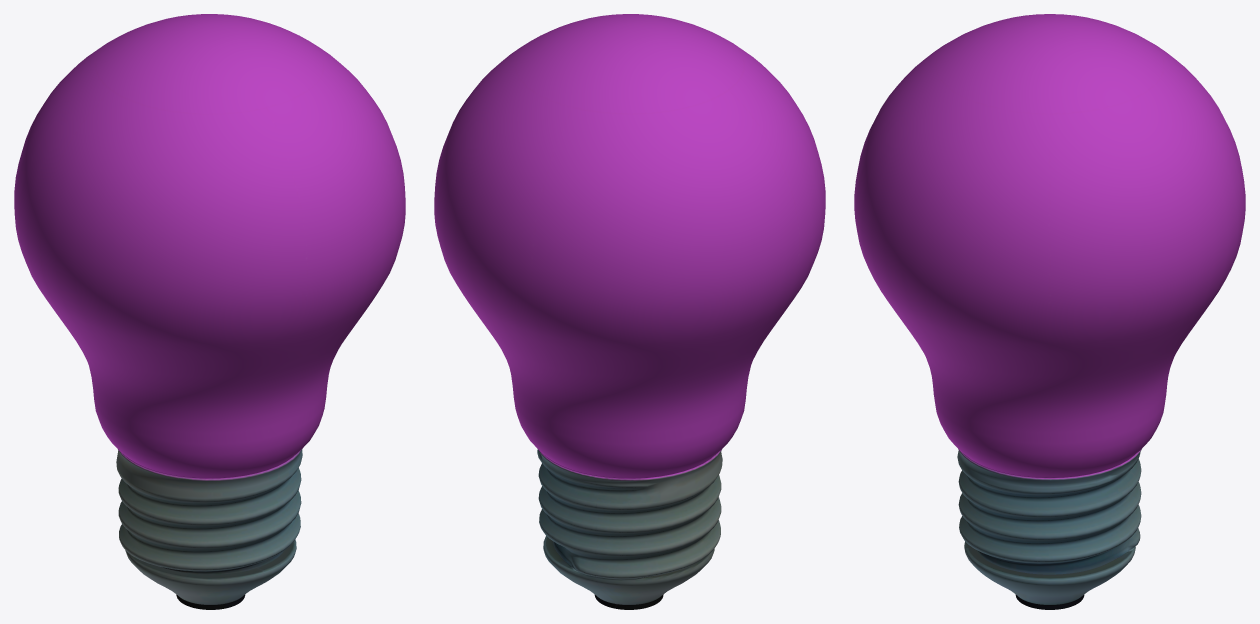
The model's file is lightBulbPurple.fbx.
The picture shows the model from 3 angles, left to right: view 1: azimuth 30°, elevation 25°; view 2: azimuth 150°, elevation 25°; view 3: azimuth 270°, elevation 25°; orthographic projection.
Visible parts, largest first — view 1: node_id29; view 2: node_id29; view 3: node_id29.
Boxes of the visible parts, left/top/right/bottom form: node_id29: left=14, top=14, right=405, bottom=609; node_id29: left=434, top=14, right=825, bottom=609; node_id29: left=854, top=14, right=1245, bottom=609.
Size of the model in its own units: 0.3223 by 0.512 by 0.3223.
Materials: 1 (1 with a texture image).
